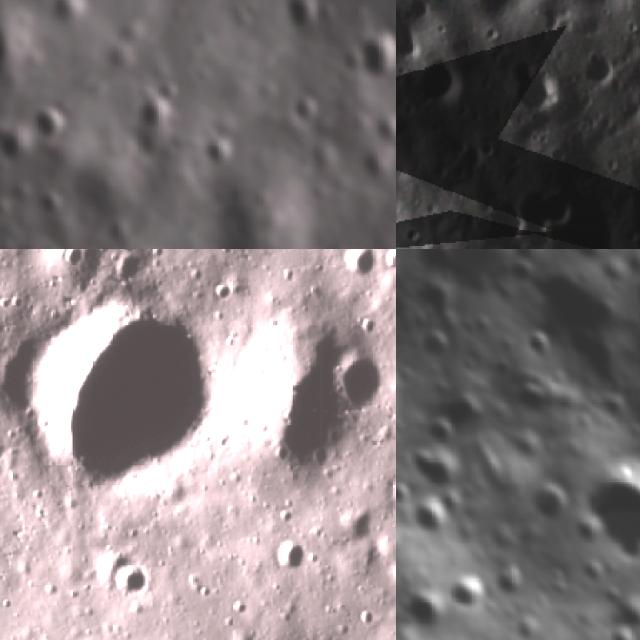crater: (16, 292, 230, 502), (264, 322, 356, 476), (565, 441, 640, 584), (398, 429, 490, 521), (417, 380, 508, 460), (329, 345, 393, 411), (396, 575, 459, 640), (516, 467, 578, 533), (441, 562, 499, 625), (348, 20, 396, 87), (0, 0, 32, 98), (520, 188, 586, 232), (404, 318, 457, 372), (26, 99, 82, 150), (484, 551, 533, 606), (134, 88, 181, 138), (516, 326, 561, 376), (44, 0, 92, 44), (110, 561, 160, 602), (270, 536, 309, 584), (336, 502, 374, 551), (201, 130, 241, 175), (515, 67, 561, 106), (32, 184, 72, 222), (289, 91, 323, 135), (337, 249, 385, 279), (425, 59, 458, 102), (110, 252, 153, 284), (0, 122, 30, 165), (599, 617, 640, 640), (0, 193, 20, 230), (208, 280, 238, 302), (61, 249, 86, 272), (480, 141, 505, 160), (380, 249, 396, 275), (404, 227, 421, 249), (115, 249, 138, 256)
